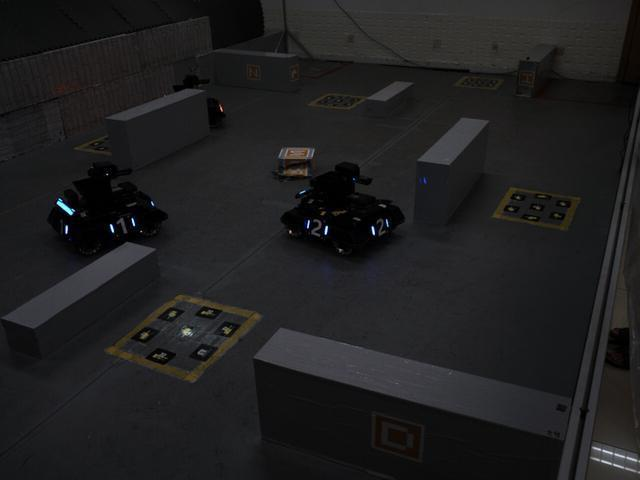armor: (303, 211, 332, 243), (102, 213, 139, 238), (367, 212, 393, 240), (53, 214, 71, 238)
